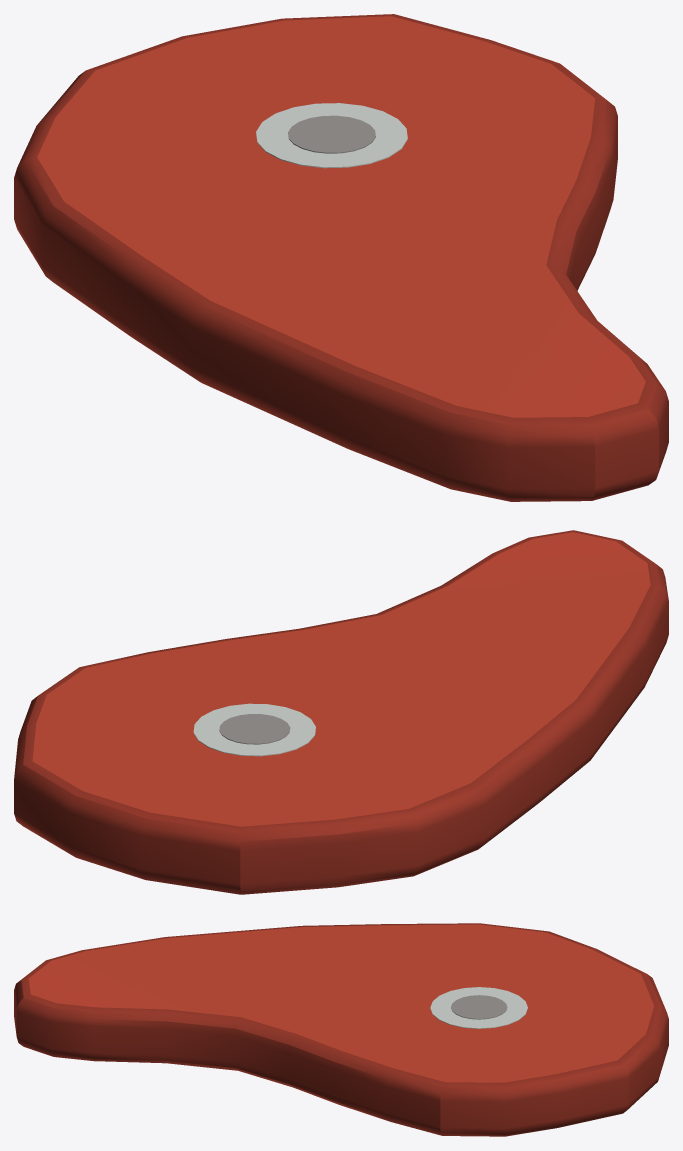
The model's file is Meat.fbx.
3 views of the same model, one above another, from view 1: azimuth 30°, elevation 25°; view 2: azimuth 150°, elevation 25°; view 3: azimuth 270°, elevation 25° (orthographic). The views are drawn at different scales.
Parts seen in each view (by area): view 1: pCylinder3; view 2: pCylinder3; view 3: pCylinder3.
Part boxes in pixels (x1=…): pCylinder3: x1=14, y1=14, x2=668, y2=501; pCylinder3: x1=14, y1=530, x2=668, y2=894; pCylinder3: x1=14, y1=923, x2=668, y2=1136.
Bounding box in the file's own units: 77.75 × 11.89 × 126.
